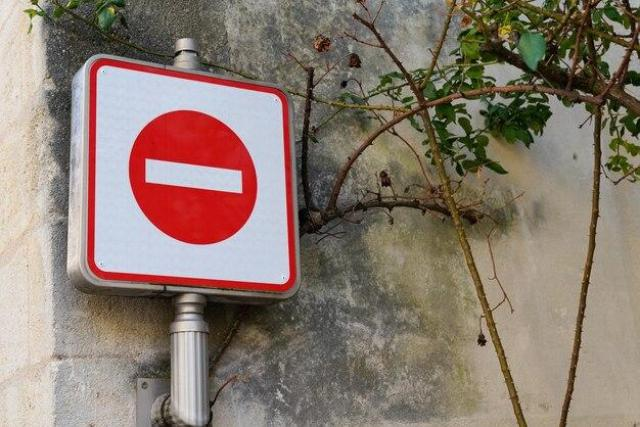B2: (143, 114, 253, 245)
